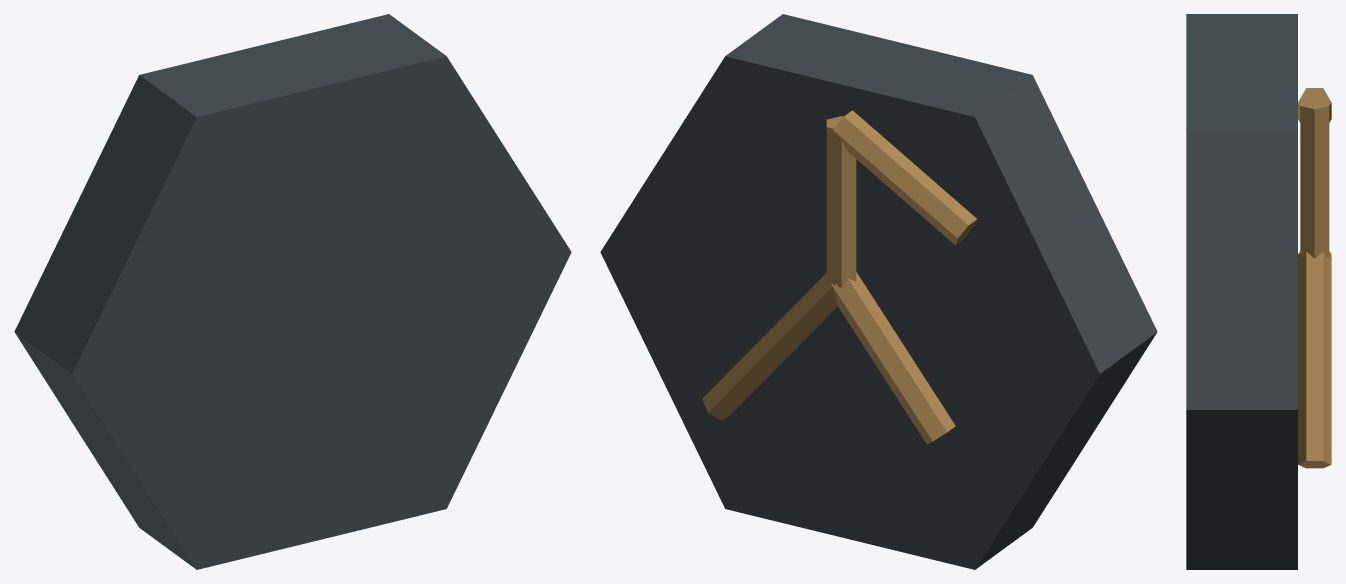
File: AE_Item_HearthSigil.fbx
3 renders of one model, left to right at view 1: azimuth 30°, elevation 25°; view 2: azimuth 150°, elevation 25°; view 3: azimuth 270°, elevation 25°, orthographic. The views are drawn at different scales.
Visible parts, largest first — view 1: AE_Item_HearthSigil; view 2: AE_Item_HearthSigil; view 3: AE_Item_HearthSigil.
Part boxes in pixels (x1,y1,x2,y2): AE_Item_HearthSigil: (14, 14, 571, 569); AE_Item_HearthSigil: (600, 14, 1157, 569); AE_Item_HearthSigil: (1186, 14, 1331, 569).
Size of the model in its own units: 0.2 by 0.1732 by 0.052.
